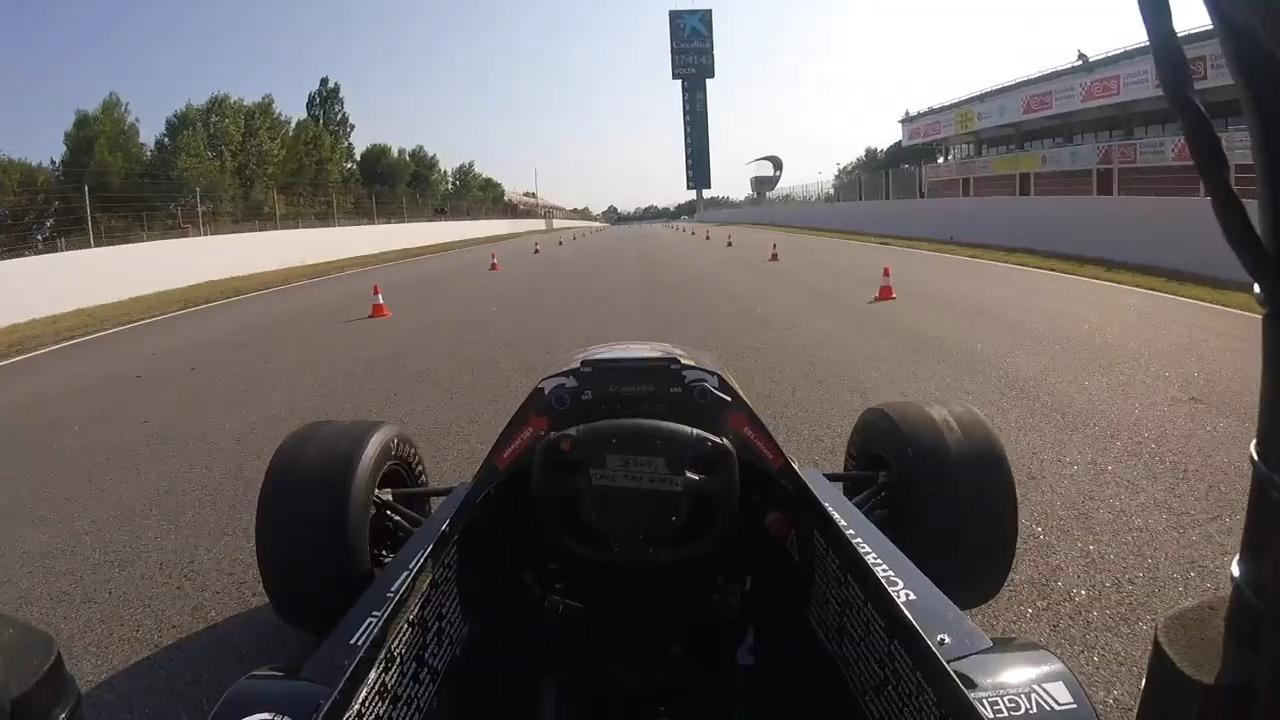orange_cone: (351, 281, 400, 325), (866, 264, 899, 307), (478, 248, 505, 273), (763, 241, 788, 263), (529, 226, 544, 258), (724, 229, 737, 254)
